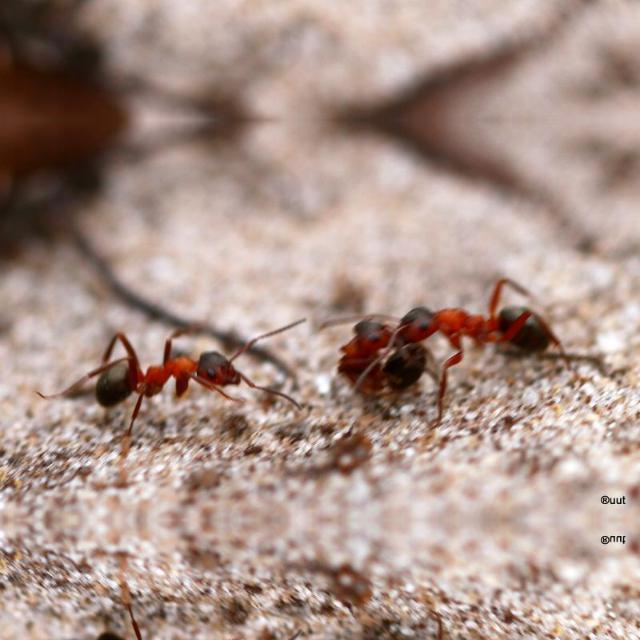Formica: (79, 314, 279, 422), (392, 284, 572, 364), (337, 296, 433, 416), (79, 616, 279, 640)
